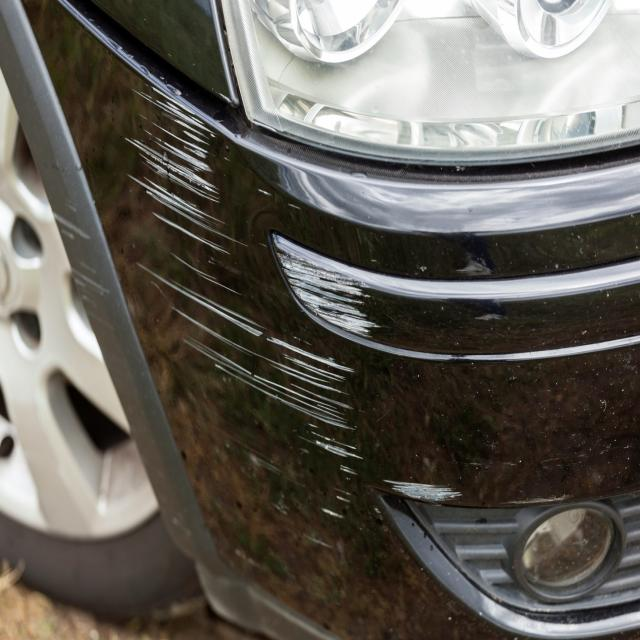scratch: (51, 69, 463, 546), (497, 495, 569, 506)
